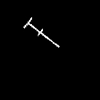double_crochet: (24, 18, 58, 46)
